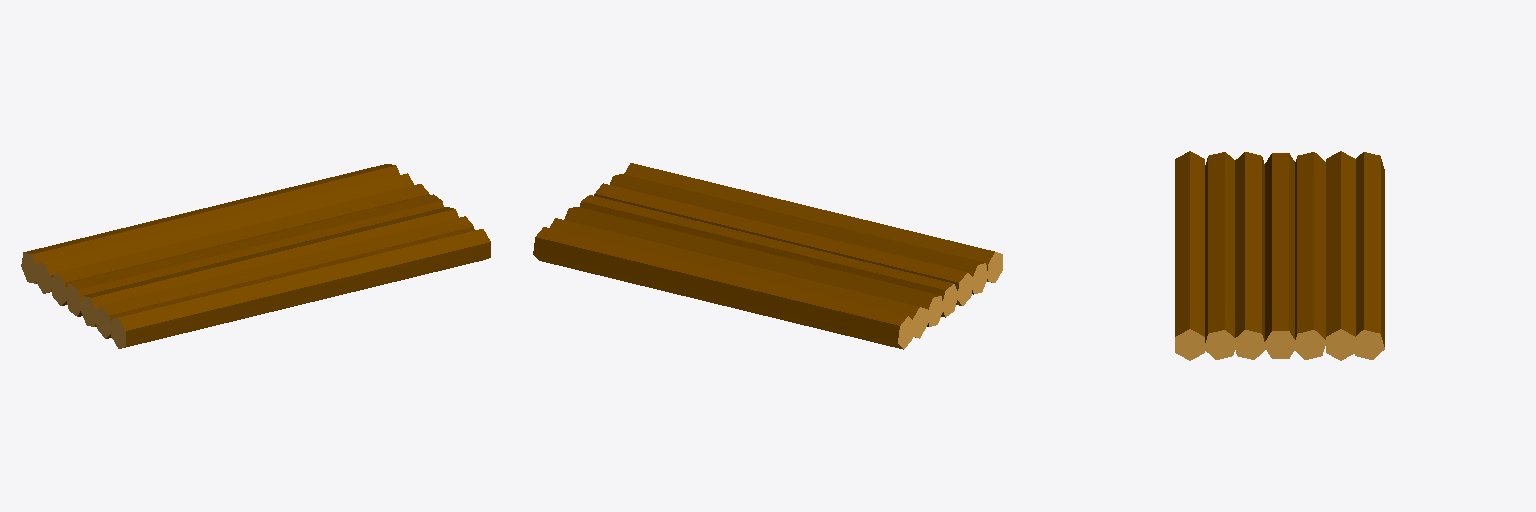
Rendered from log_bridge.obj.
3 renders of one model, left to right at view 1: azimuth 30°, elevation 25°; view 2: azimuth 150°, elevation 25°; view 3: azimuth 270°, elevation 25°, orthographic.
Size of the model in its own units: 6.94 by 0.5793 by 3.46.